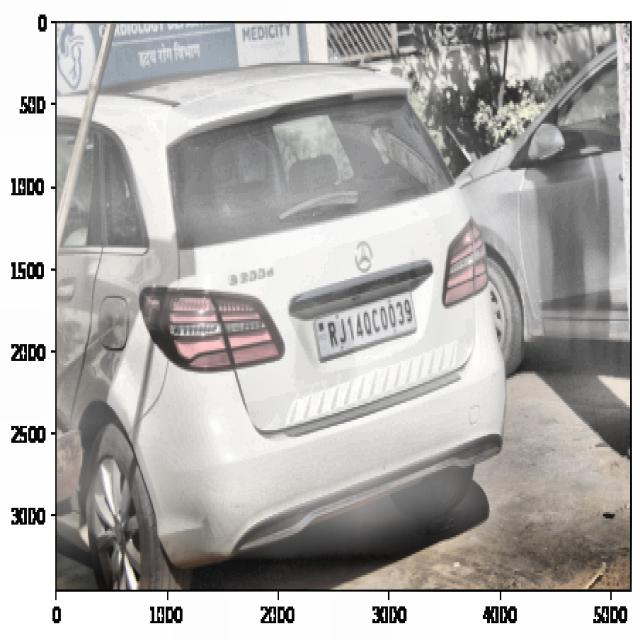license_plate: (324, 298, 416, 350)
